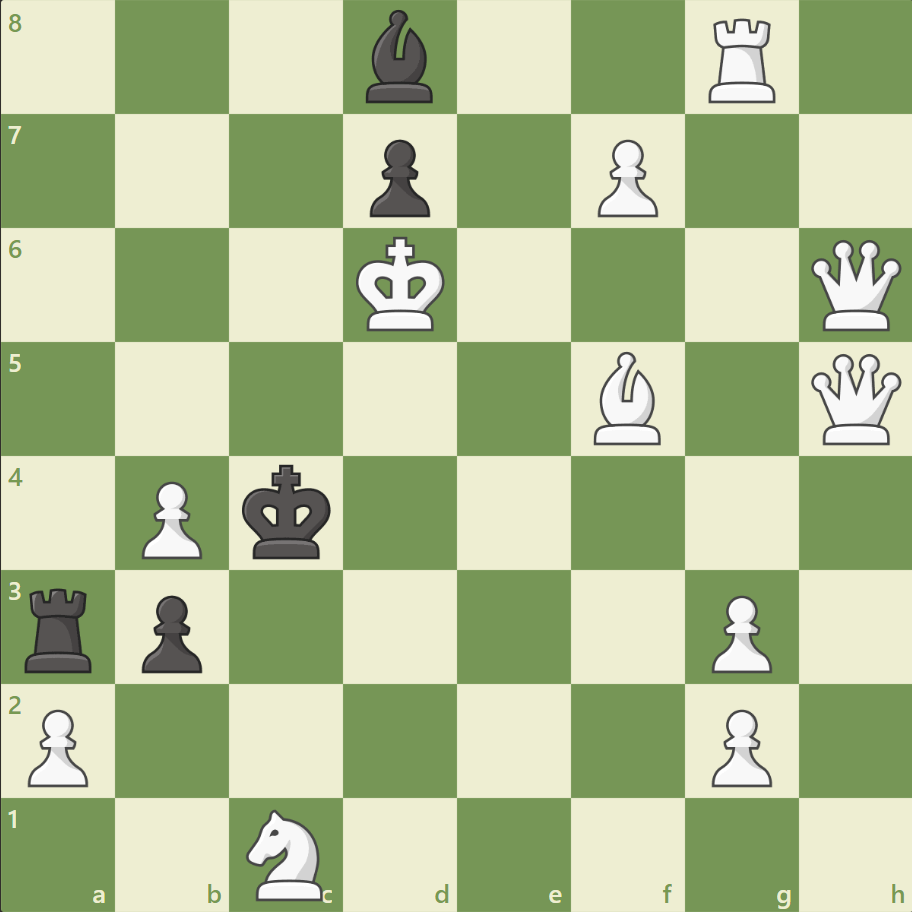B: (585, 347, 669, 449)
K: (351, 231, 451, 339)
N: (238, 802, 335, 904)
P: (133, 473, 208, 564), (701, 586, 776, 677), (20, 700, 95, 791), (701, 700, 776, 791), (588, 132, 662, 223)
Q: (805, 349, 904, 449), (805, 236, 904, 335)
R: (700, 12, 783, 109)
b: (358, 6, 442, 109)
k: (238, 458, 338, 566)
p: (133, 586, 208, 677), (361, 132, 435, 223)
r: (19, 579, 102, 676)
